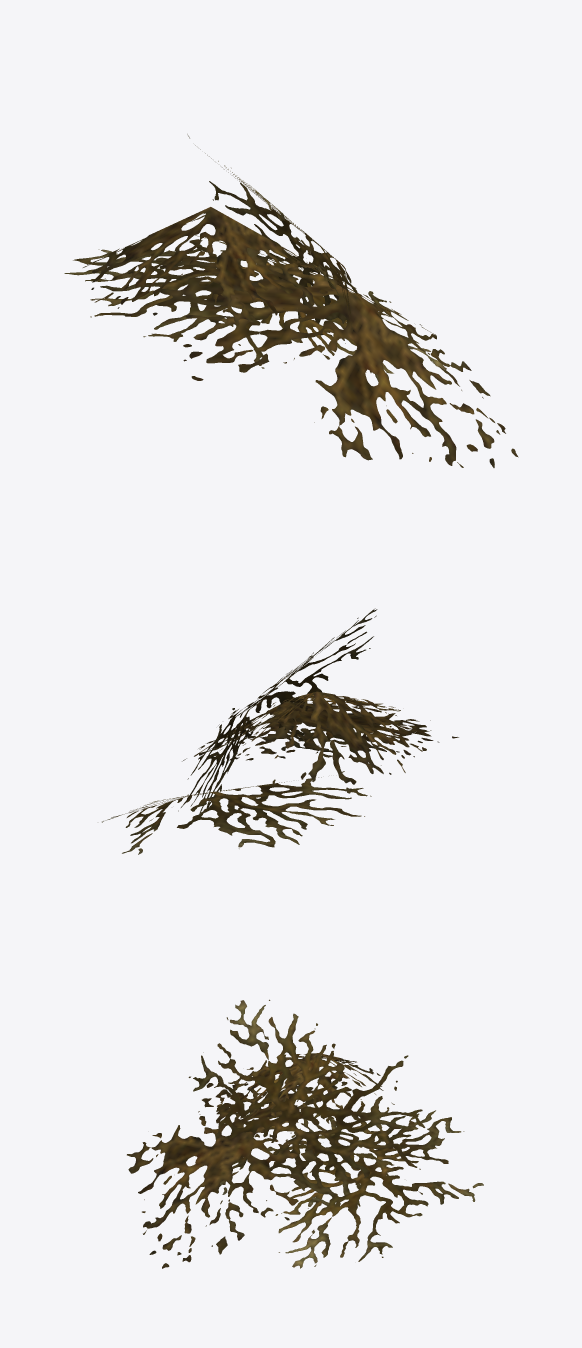
Rendered from grass_003.FBX.
The picture shows the model from 3 angles, top to bottom: view 1: azimuth 30°, elevation 25°; view 2: azimuth 150°, elevation 25°; view 3: azimuth 270°, elevation 25°; orthographic projection. The views are drawn at different scales.
Visible parts, largest first — view 1: grass_003; view 2: grass_003; view 3: grass_003.
Part boxes in pixels (box(x1,y1,x2,y2)): grass_003: box(64, 134, 518, 467); grass_003: box(102, 608, 458, 854); grass_003: box(127, 999, 483, 1268).
Bounding box in the file's own units: 125 × 88.78 × 154.
